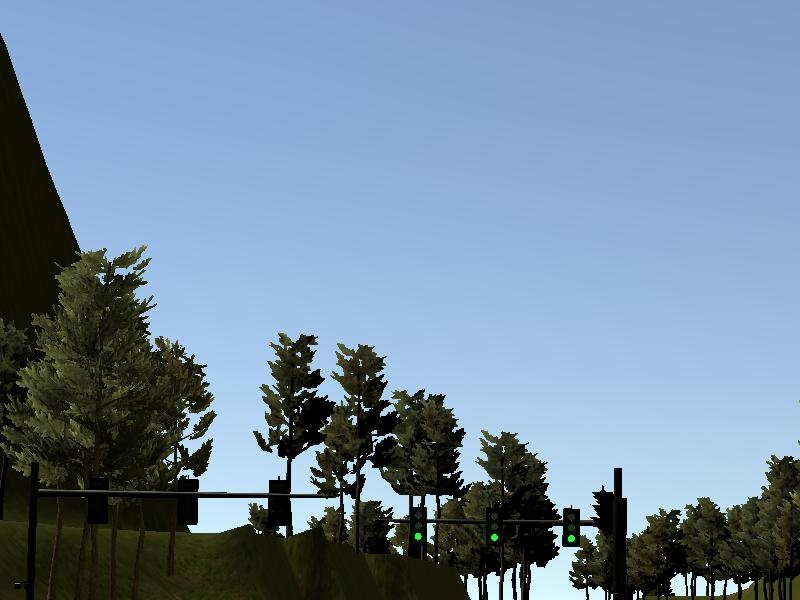GREEN: (485, 509, 503, 545), (562, 509, 579, 546), (410, 507, 425, 543)
